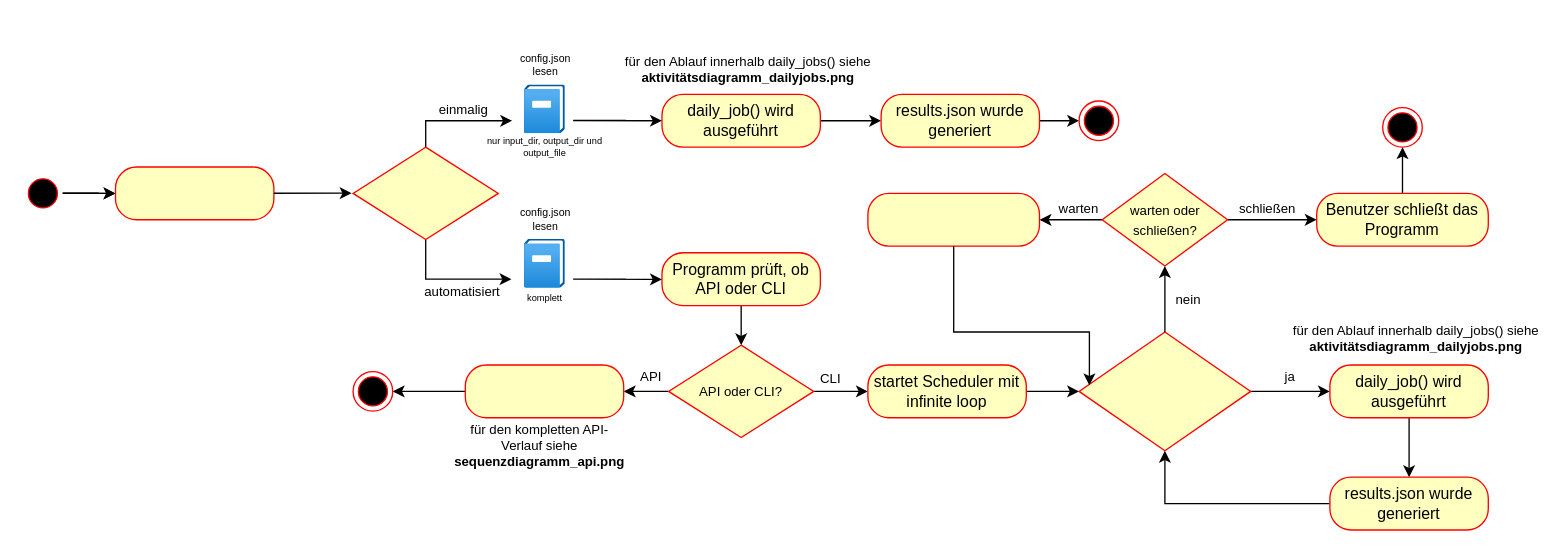
Some shapes in this 1566 by 553 pixel diagram are drawn without their labels. Here are the shapes that lost their labels. From the top down, the centre of each, then its label:
At (x=194, y=193): "Benutzer wählt den Modus".
At (x=425, y=193): "einmalig oder automatisiert?".
At (x=953, y=219): "Benutzer wartet".
At (x=544, y=391): "startet normalen Scheduler".
At (x=1164, y=391): "ist aktuell die gewünschte Uhrzeit?".
